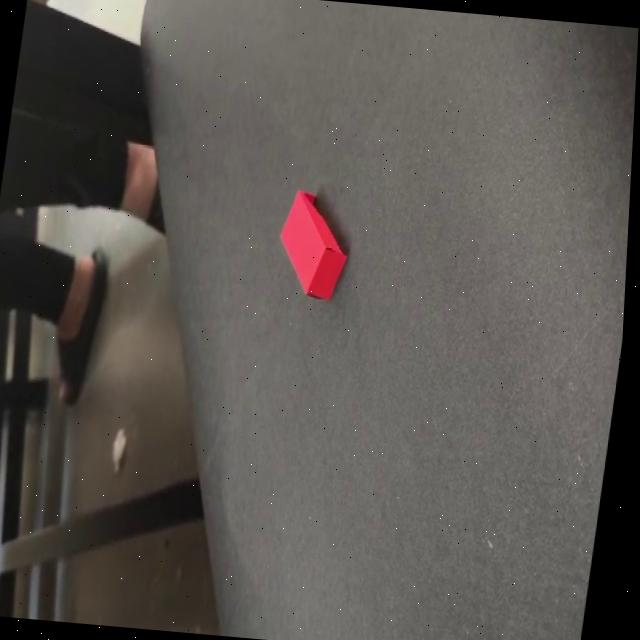red block: (270, 188, 356, 302)
